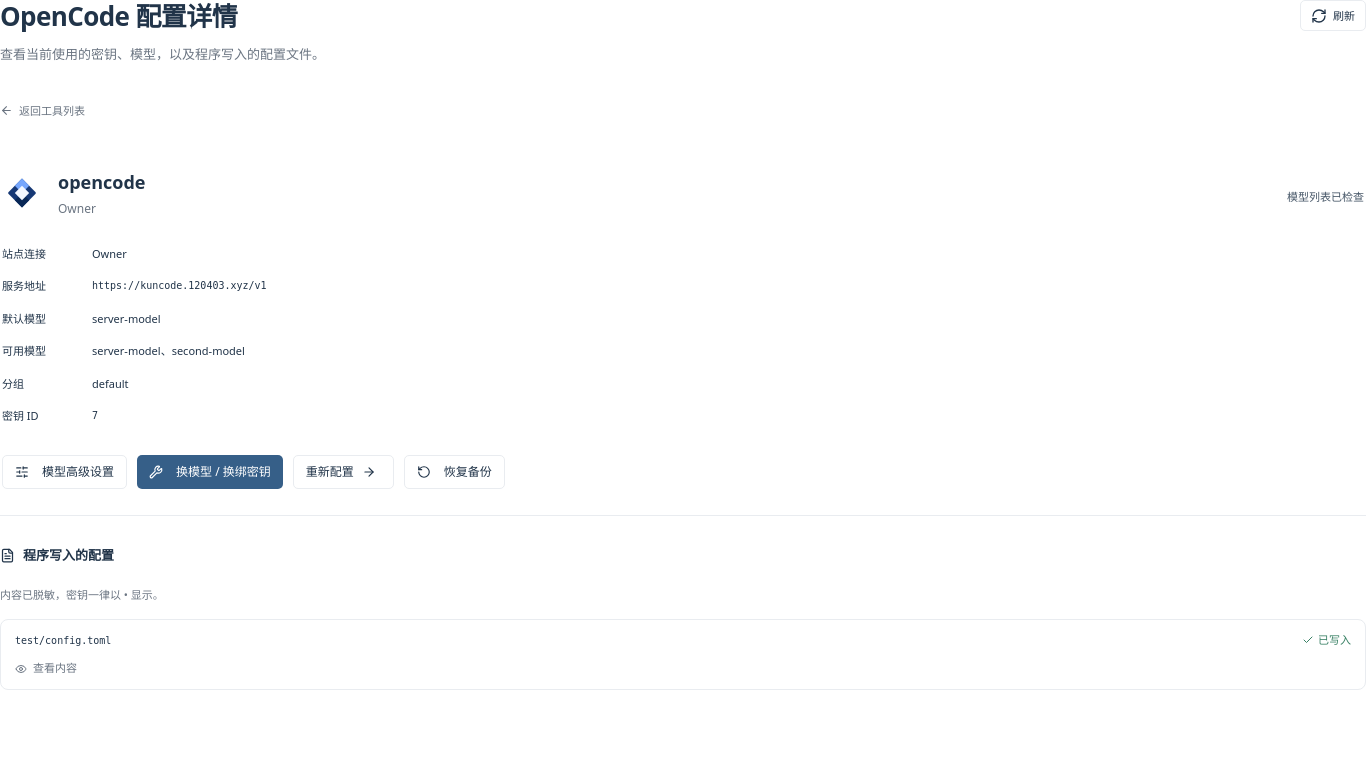
Test: 已有工具可直接编辑高级模型配置，无需重新登录或创建密钥
Click the button "模型高级设置". click: [64, 472]
box: [2, 455, 127, 489]
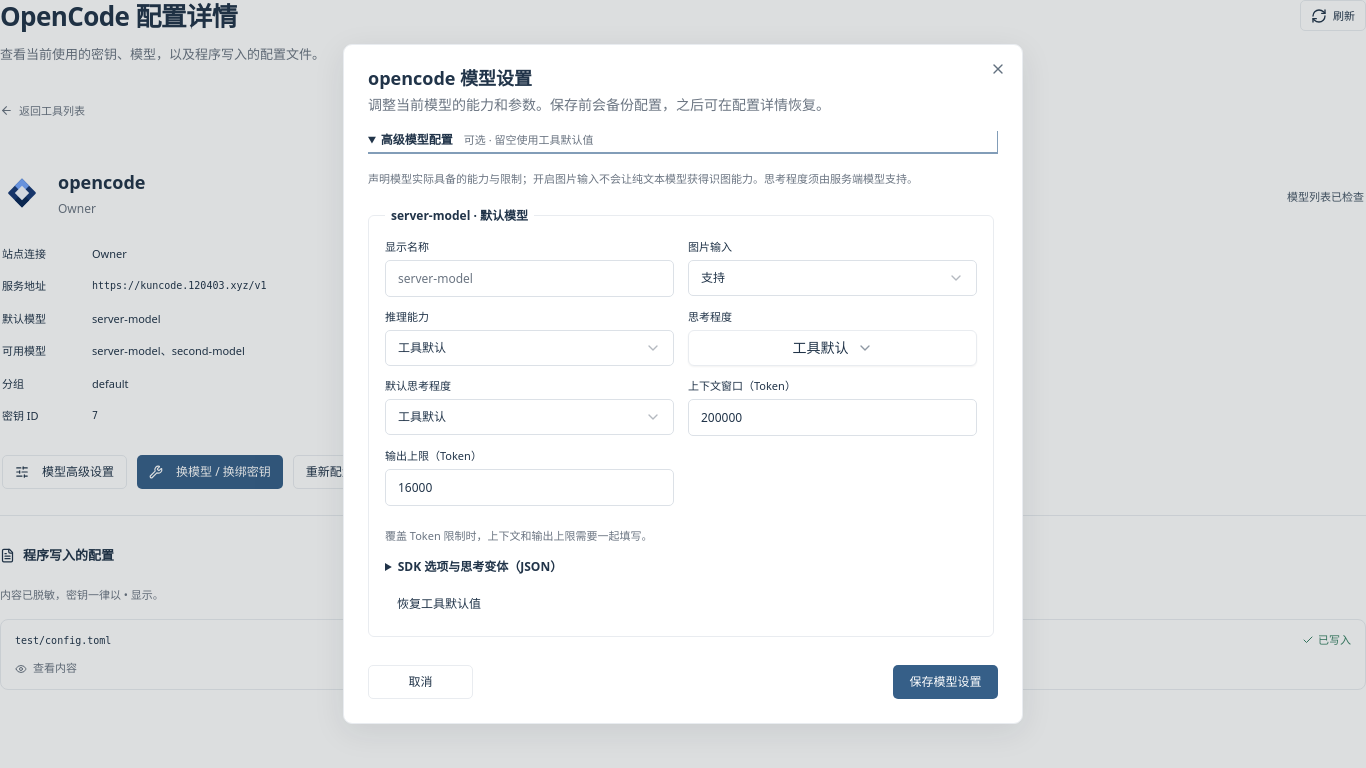
Check: the number field labelled "上下文窗口（Token）" holds "200000"
Replace the text in the number field labelled "上下文窗口（Token）" with "400000". click: [832, 417]
box: [688, 399, 977, 436]
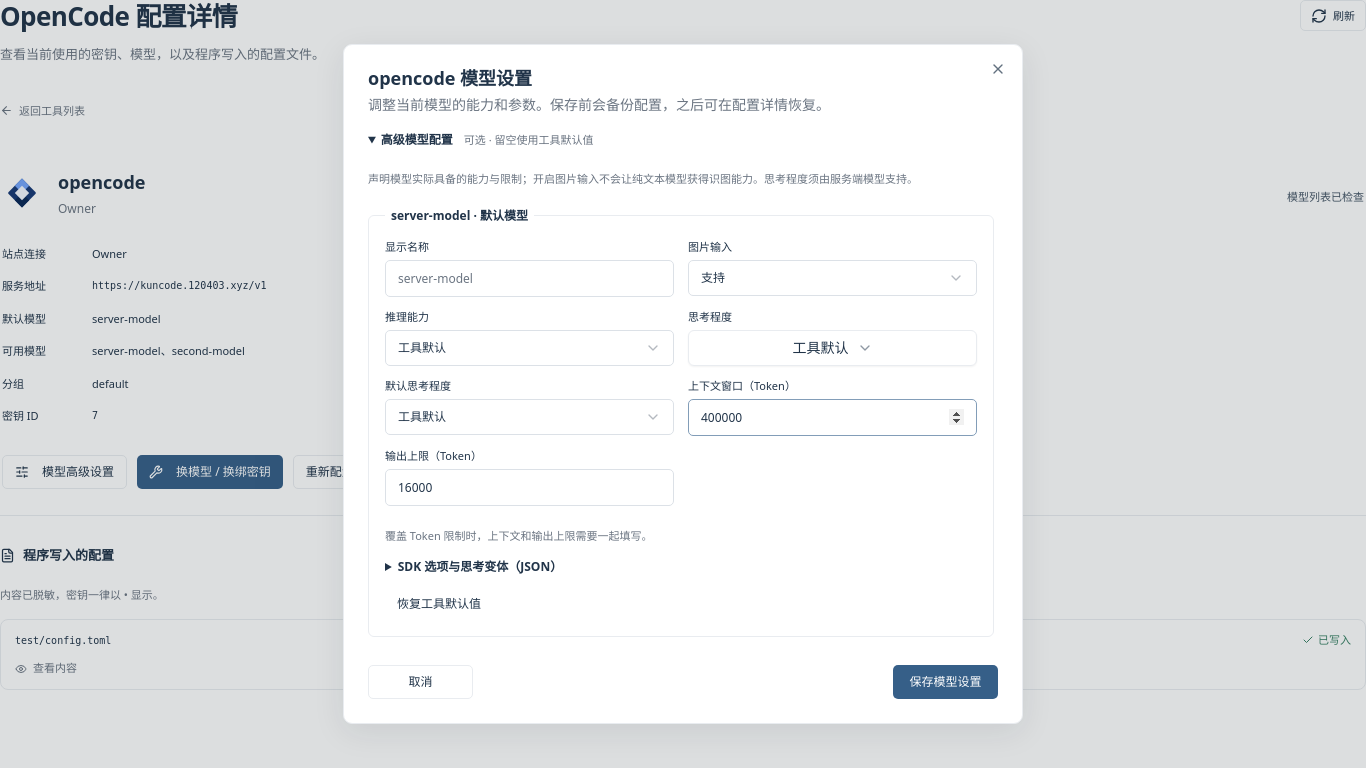
Click the button "保存模型设置". click: [946, 682]
box: [893, 665, 998, 699]
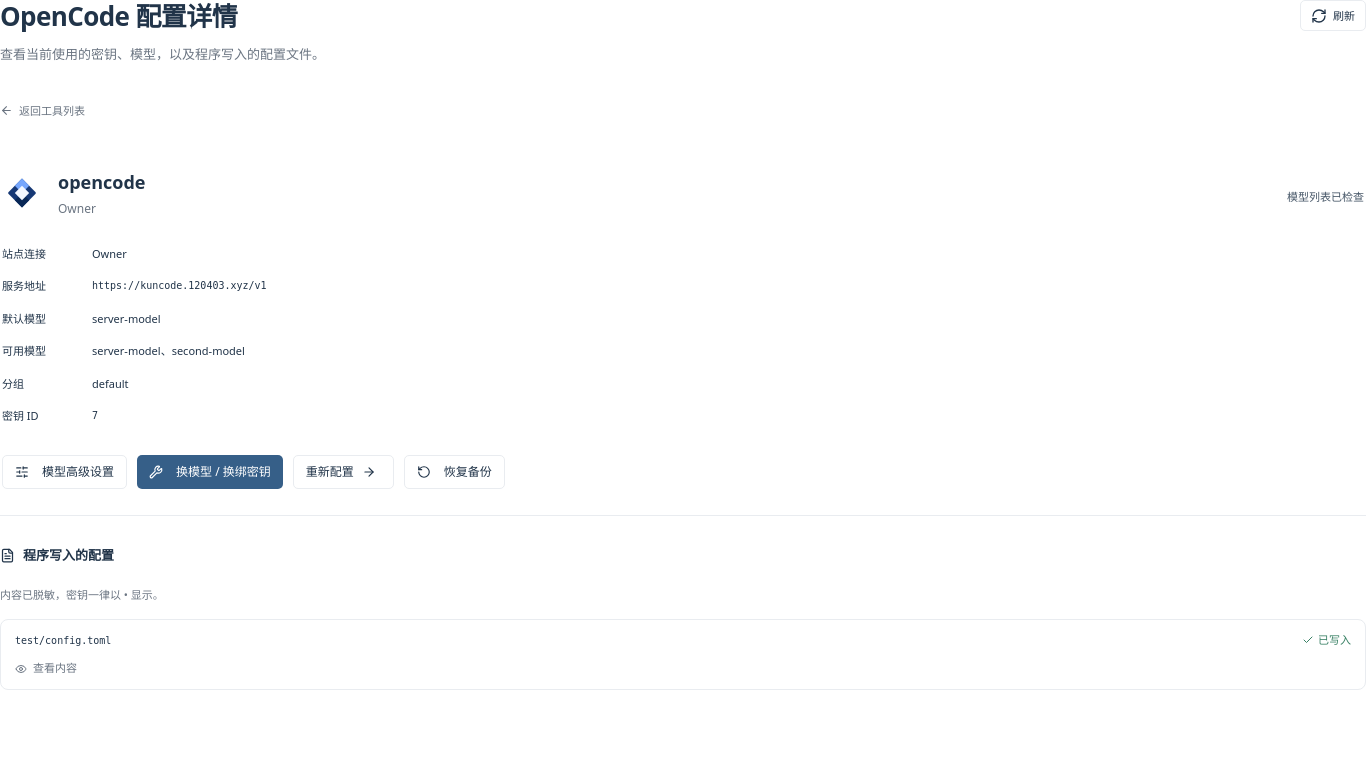
Check: the dialog is gone
